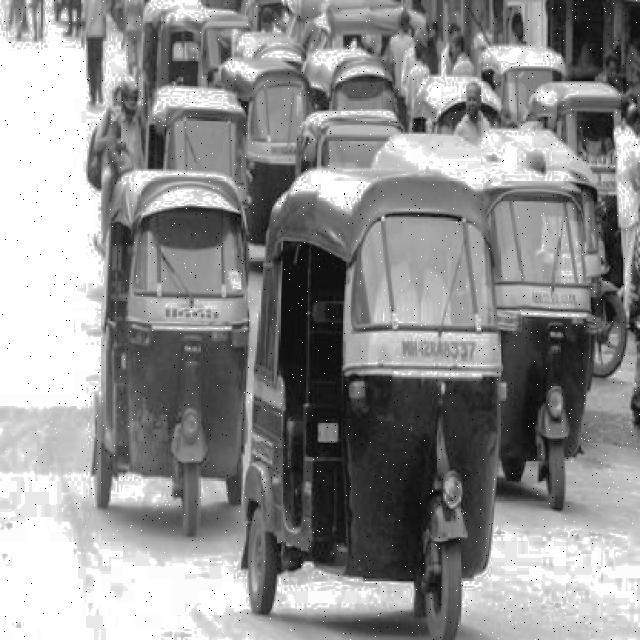Auto-Rickshaw: (248, 169, 493, 638), (96, 166, 247, 547), (468, 159, 595, 513), (242, 57, 302, 268)
